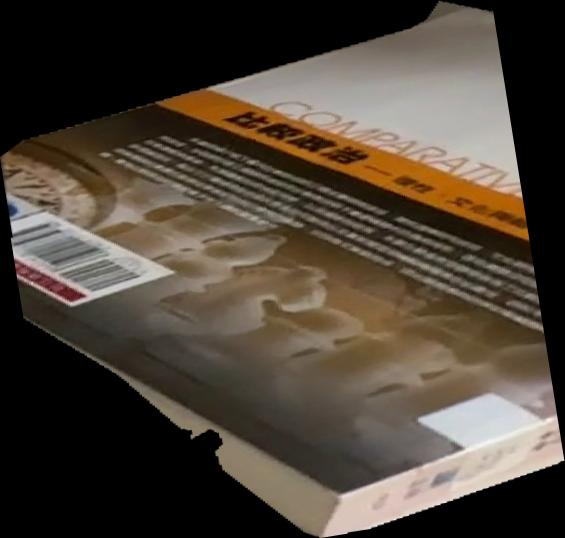flat: (1, 1, 565, 538)
